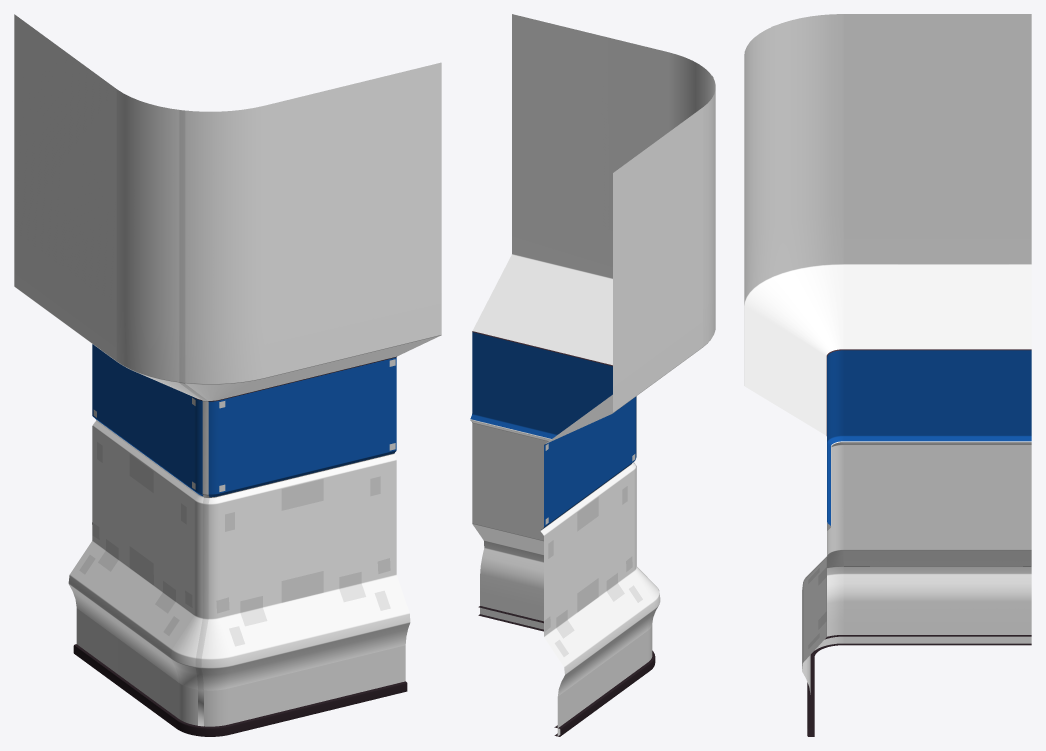
The model's file is CornerPiece.fbx.
3 renders of one model, left to right at view 1: azimuth 30°, elevation 25°; view 2: azimuth 150°, elevation 25°; view 3: azimuth 270°, elevation 25°, orthographic. The views are drawn at different scales.
Parts seen in each view (by area): view 1: Plane.009, StylizedHardSurface_Panels_003.012, StylizedHardSurface_Panels_002.086, StylizedHardSurface_Decals_032.020_projected, StylizedHardSurface_Decals_032.019_projected; view 2: Plane.009, StylizedHardSurface_Panels_003.012, StylizedHardSurface_Decals_032.021_projected, StylizedHardSurface_Decals_032.022_projected; view 3: Plane.009.
Part boxes in pixels (bbox=[...]): Plane.009: bbox=[14, 14, 441, 736]; StylizedHardSurface_Panels_003.012: bbox=[76, 608, 405, 726]; StylizedHardSurface_Panels_002.086: bbox=[179, 110, 209, 726]; StylizedHardSurface_Decals_032.020_projected: bbox=[281, 479, 323, 510]; StylizedHardSurface_Decals_032.019_projected: bbox=[281, 571, 323, 602]; Plane.009: bbox=[470, 14, 715, 736]; StylizedHardSurface_Panels_003.012: bbox=[558, 625, 652, 727]; StylizedHardSurface_Decals_032.021_projected: bbox=[577, 578, 598, 612]; StylizedHardSurface_Decals_032.022_projected: bbox=[577, 497, 598, 531]; Plane.009: bbox=[744, 14, 1031, 736].
Bounding box in the file's own units: 260 × 600 × 260.
